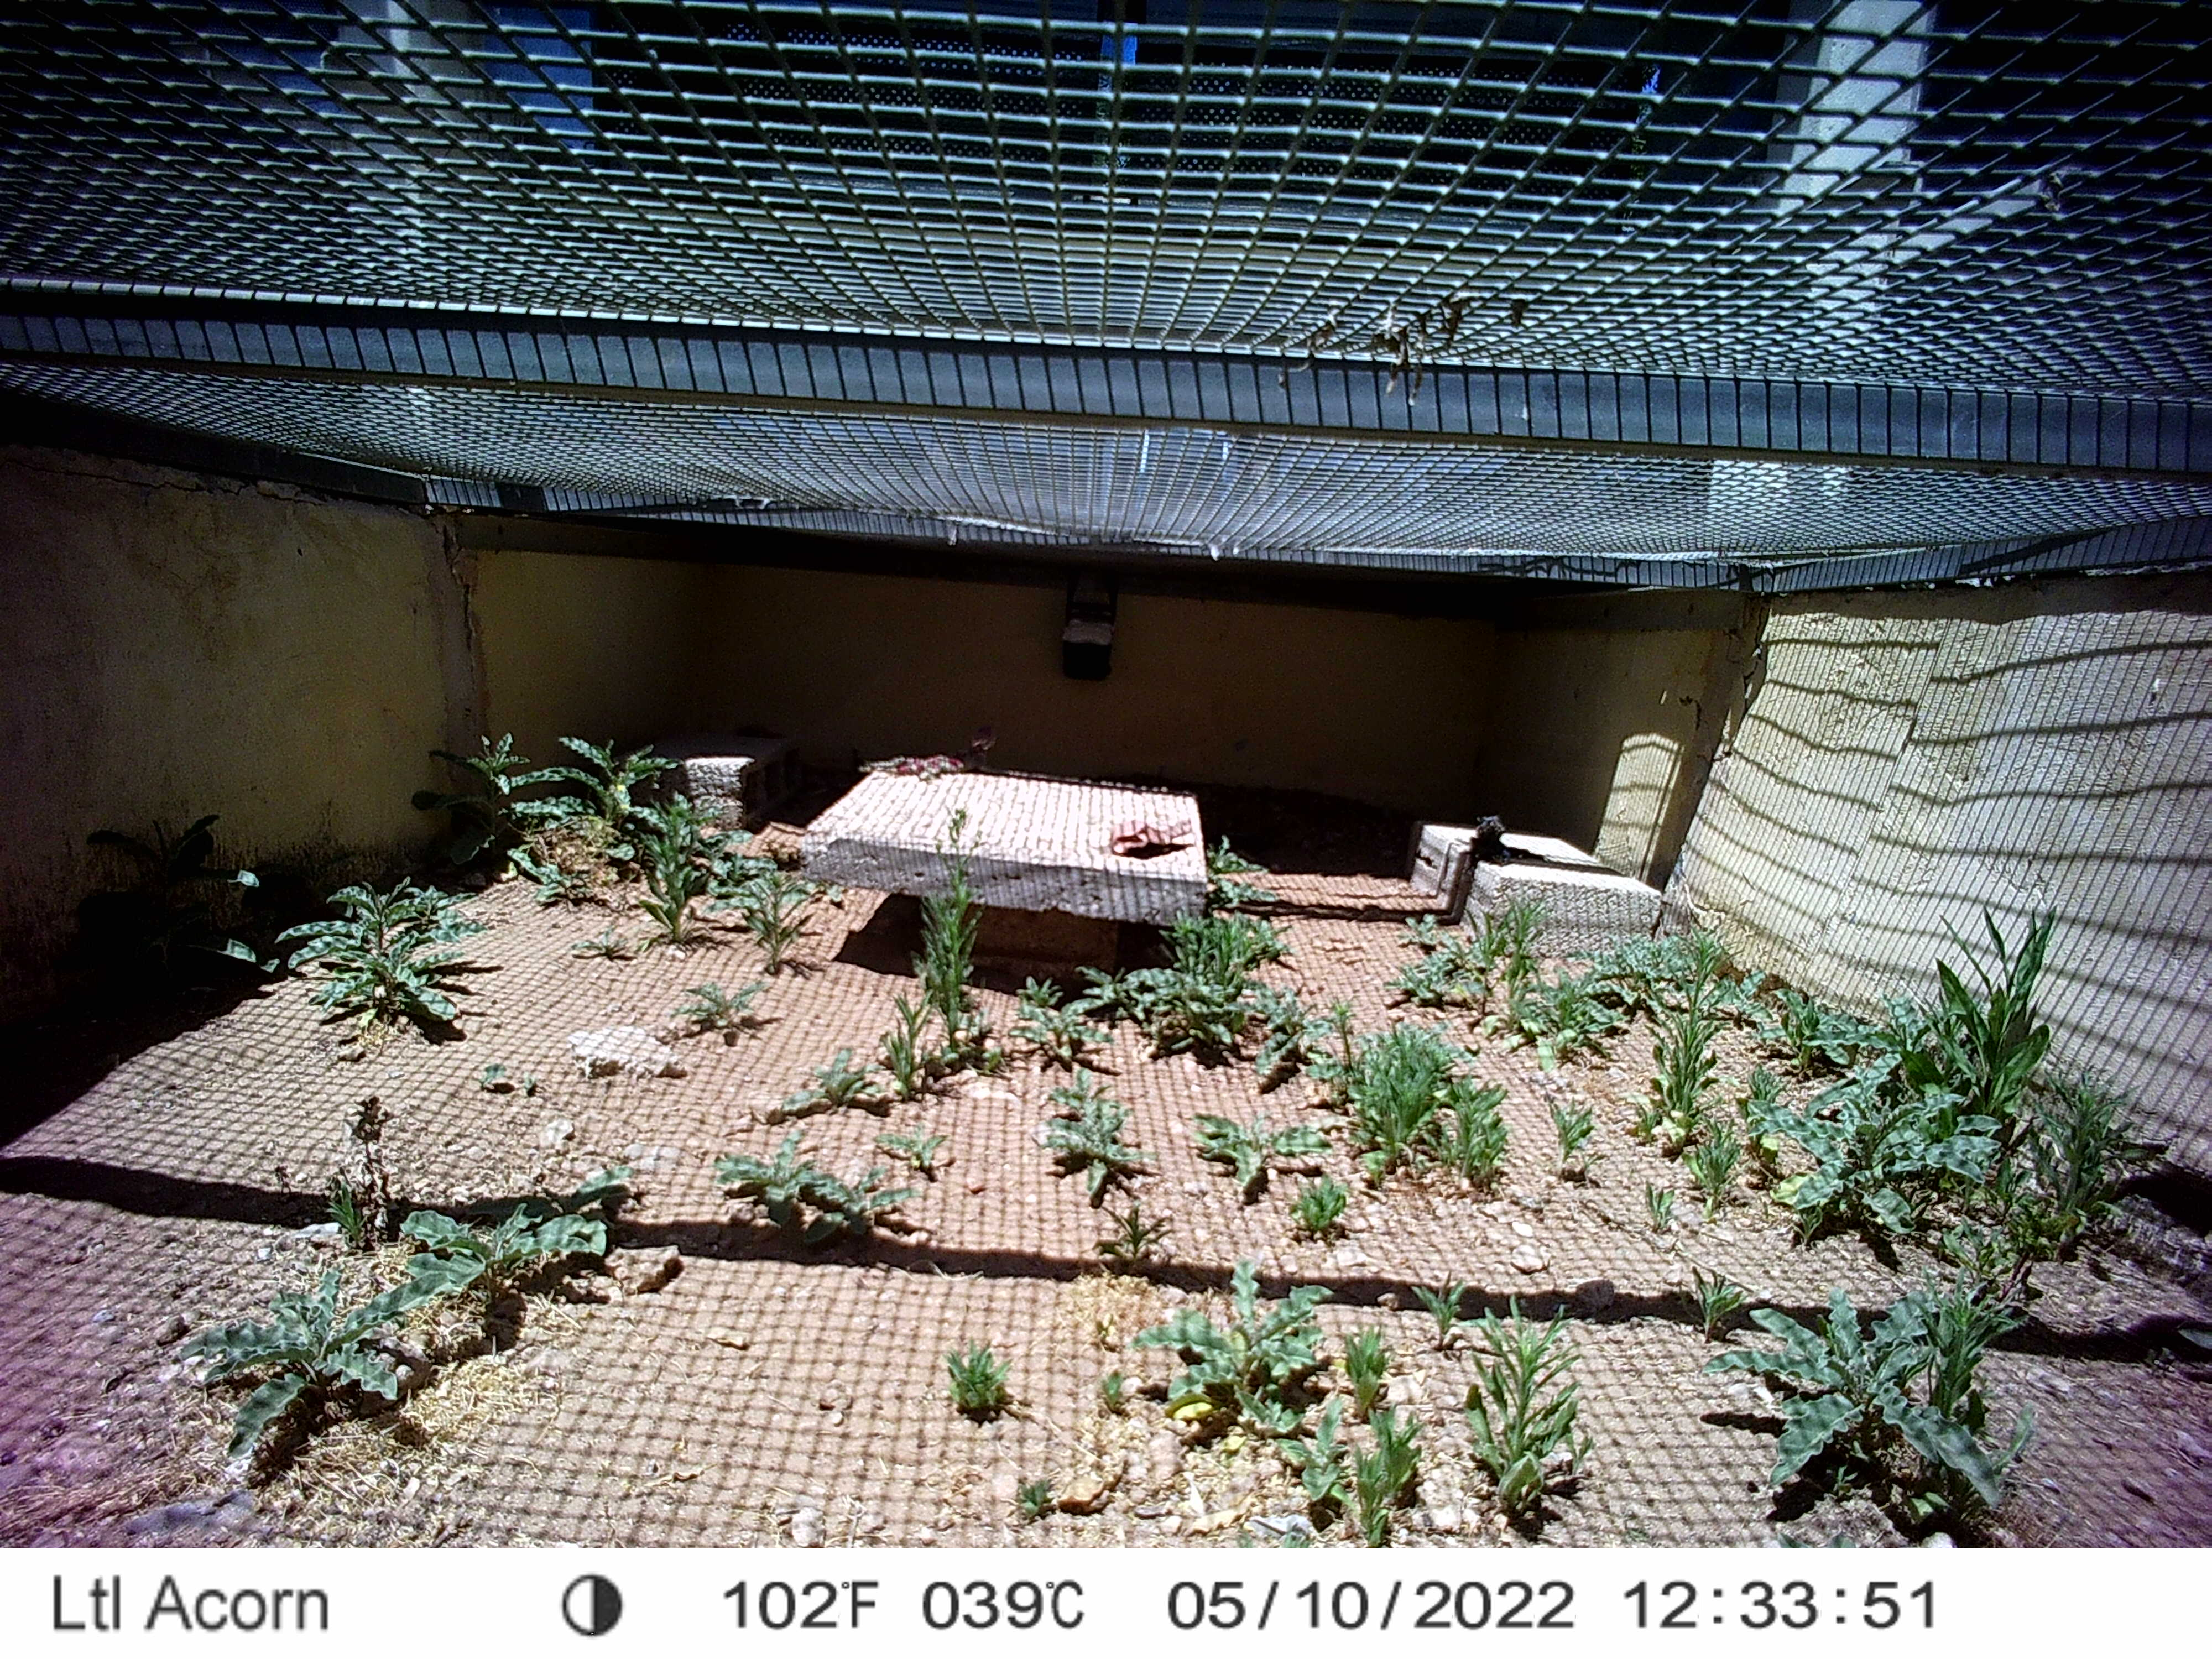lizard: (855, 721, 1010, 786), (1465, 810, 1550, 870)
